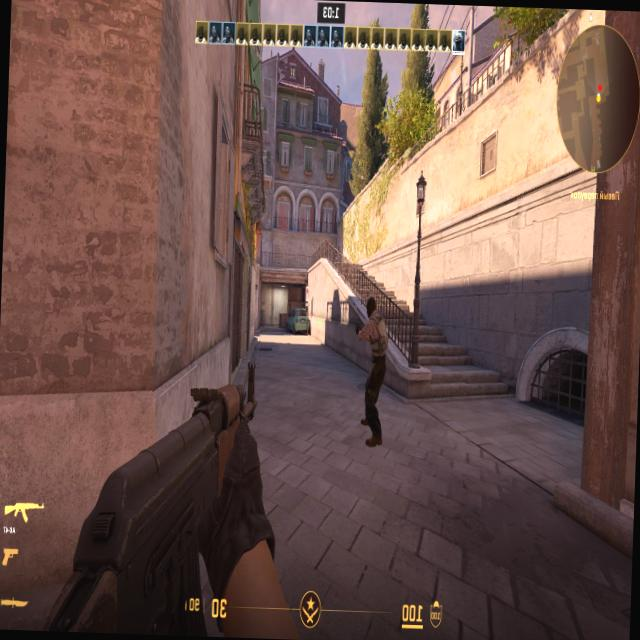T: (360, 297, 383, 432)
T_heat: (367, 298, 373, 316)
